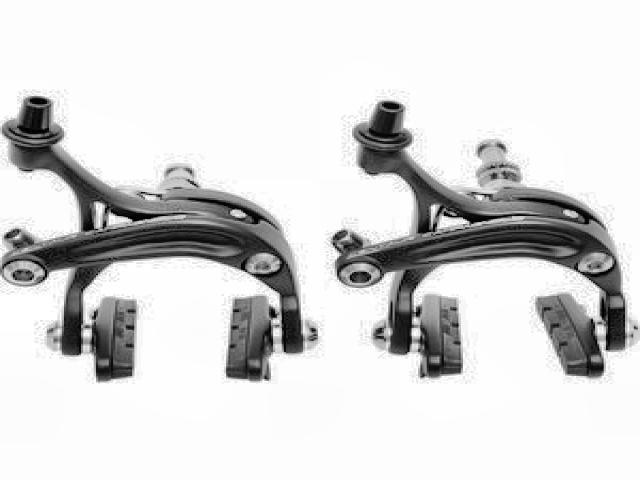rim_brake: (5, 96, 319, 385), (329, 97, 638, 382)
